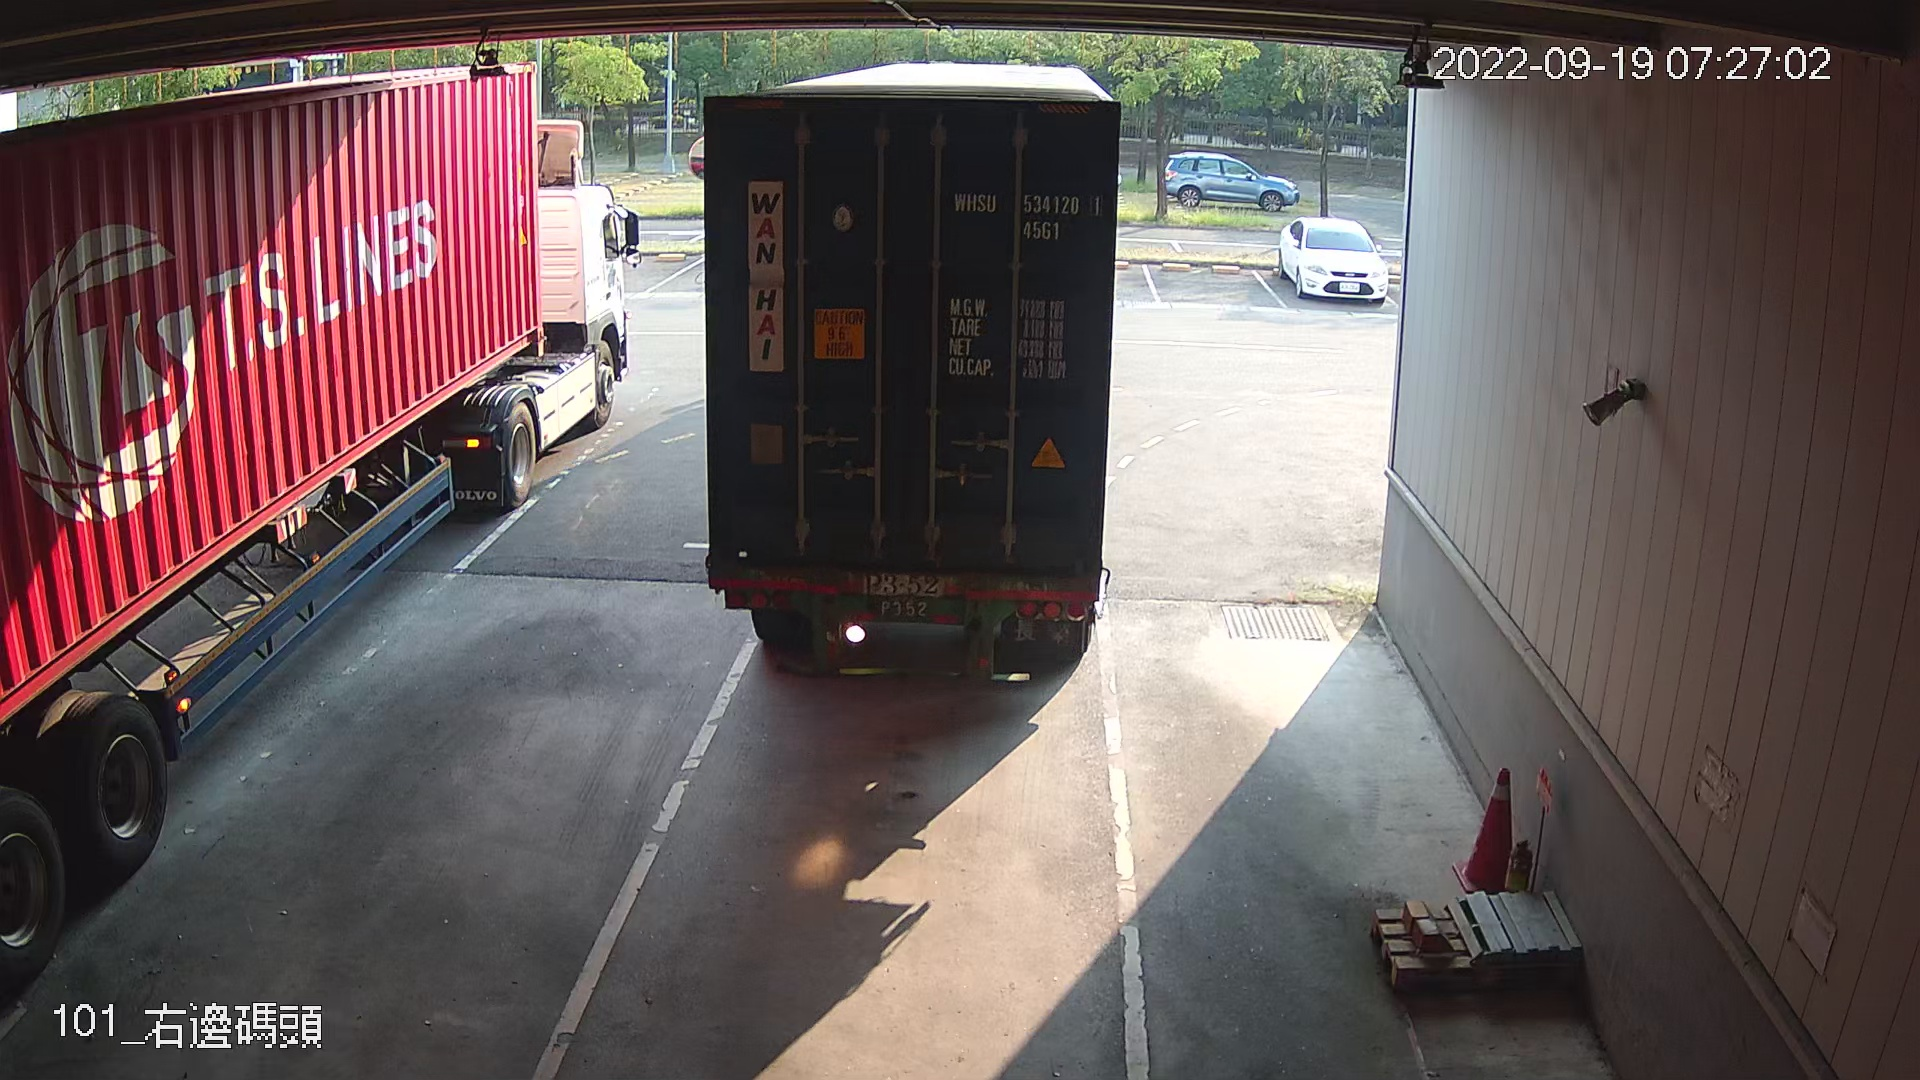container: (947, 179, 1106, 248)
